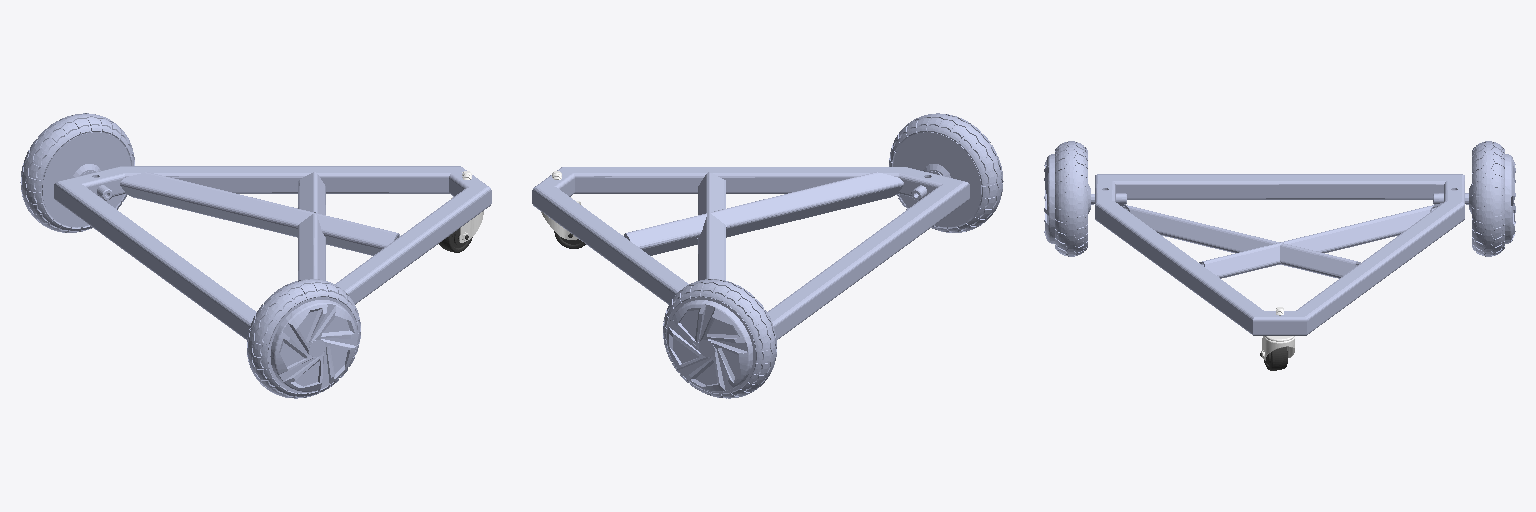
The robot description file, URDF, robot "dfdv_robot":
<?xml version="1.0" encoding="utf-8"?>
<!-- This URDF was automatically created by SolidWorks to URDF Exporter! Originally created by [author] ([email redacted]) 
     Commit Version: 1.6.0-4-g7f85cfe  Build Version: 1.6.7995.38578
     For more information, please see http://wiki.ros.org/sw_urdf_exporter -->
<robot
  name="dfdv_robot">
  <link
    name="base_link">
    <inertial>
      <origin
        xyz="-0.0473739694704758 -1.04609804765262E-07 -1.74506948306084E-06"
        rpy="0 0 0" />
      <mass
        value="0.624706350643648" />
      <inertia
        ixx="0.00511447442892371"
        ixy="0.00040821037597946"
        ixz="-4.56703849568947E-07"
        iyy="0.00343367420031374"
        iyz="-4.21131238551985E-07"
        izz="0.00839627365509467" />
    </inertial>
    <visual>
      <origin
        xyz="0 0 0"
        rpy="0 0 0" />
      <geometry>
        <mesh
          filename="package://dfdv_robot/meshes/base_link.STL" />
      </geometry>
      <material
        name="">
        <color
          rgba="0.792156862745098 0.819607843137255 0.933333333333333 1" />
      </material>
    </visual>
    <collision>
      <origin
        xyz="0 0 0"
        rpy="0 0 0" />
      <geometry>
        <mesh
          filename="package://dfdv_robot/meshes/base_link.STL" />
      </geometry>
    </collision>
  </link>
  <link
    name="l_wheel">
    <inertial>
      <origin
        xyz="-7.1785E-08 -0.0001059 0.0021198"
        rpy="0 0 0" />
      <mass
        value="2.5" />
      <inertia
        ixx="0.0022694"
        ixy="1.0307E-09"
        ixz="2.3276E-09"
        iyy="0.0022695"
        iyz="-6.9288E-06"
        izz="0.0039163" />
    </inertial>
    <visual>
      <origin
        xyz="0 0 0"
        rpy="0 0 0" />
      <geometry>
        <mesh
          filename="package://dfdv_robot/meshes/l_wheel.STL" />
      </geometry>
      <material
        name="">
        <color
          rgba="0.79216 0.81961 0.93333 1" />
      </material>
    </visual>
    <collision>
      <origin
        xyz="0 0 0"
        rpy="0 0 0" />
      <geometry>
        <mesh
          filename="package://dfdv_robot/meshes/l_wheel.STL" />
      </geometry>
    </collision>
  </link>
  <joint
    name="lf_joint"
    type="continuous">
    <origin
      xyz="-0.18435 -0.29904 -9.1429E-05"
      rpy="-1.5748 -0.10479 3.1416" />
    <parent
      link="base_link" />
    <child
      link="l_wheel" />
    <axis
      xyz="0 0.0039637 -0.99999" />
  </joint>
  <link
    name="r_wheel">
    <inertial>
      <origin
        xyz="7.1807E-08 0.0001059 0.0021198"
        rpy="0 0 0" />
      <mass
        value="2.5" />
      <inertia
        ixx="0.0022694"
        ixy="8.7606E-10"
        ixz="-2.3205E-09"
        iyy="0.0022695"
        iyz="6.9289E-06"
        izz="0.0039163" />
    </inertial>
    <visual>
      <origin
        xyz="0 0 0"
        rpy="0 0 0" />
      <geometry>
        <mesh
          filename="package://dfdv_robot/meshes/r_wheel.STL" />
      </geometry>
      <material
        name="">
        <color
          rgba="0.79216 0.81961 0.93333 1" />
      </material>
    </visual>
    <collision>
      <origin
        xyz="0 0 0"
        rpy="0 0 0" />
      <geometry>
        <mesh
          filename="package://dfdv_robot/meshes/r_wheel.STL" />
      </geometry>
    </collision>
  </link>
  <joint
    name="r_joint"
    type="continuous">
    <origin
      xyz="-0.18436 0.29904 -8.9705E-05"
      rpy="1.5748 -0.22065 3.1416" />
    <parent
      link="base_link" />
    <child
      link="r_wheel" />
    <axis
      xyz="0 0.0039637 0.99999" />
  </joint>
  <link
    name="caster">
    <inertial>
      <origin
        xyz="0 0 0"
        rpy="0 0 0" />
      <mass
        value="0.2" />
      <inertia
        ixx="0"
        ixy="0"
        ixz="0"
        iyy="0"
        iyz="0"
        izz="0" />
    </inertial>
    <visual>
      <origin
        xyz="0 0 0"
        rpy="0 0 0" />
      <geometry>
        <mesh
          filename="package://dfdv_robot/meshes/caster.STL" />
      </geometry>
      <material
        name="">
        <color
          rgba="1 1 1 1" />
      </material>
    </visual>
    <collision>
      <origin
        xyz="0 0 0"
        rpy="0 0 0" />
      <geometry>
        <mesh
          filename="package://dfdv_robot/meshes/caster.STL" />
      </geometry>
    </collision>
  </link>
  <joint
    name="caster_joint"
    type="continuous">
    <origin
      xyz="0.23671 0 0"
      rpy="0 0 0" />
    <parent
      link="base_link" />
    <child
      link="caster" />
    <axis
      xyz="0 0 1" />
  </joint>
  <link
    name="wc">
    <inertial>
      <origin
        xyz="0 -6.9389E-18 0"
        rpy="0 0 0" />
      <mass
        value="0.2" />
      <inertia
        ixx="9.5074E-06"
        ixy="3.1926E-24"
        ixz="5.7175E-21"
        iyy="9.5074E-06"
        iyz="-5.5214E-23"
        izz="1.4188E-05" />
    </inertial>
    <visual>
      <origin
        xyz="0 0 0"
        rpy="0 0 0" />
      <geometry>
        <mesh
          filename="package://dfdv_robot/meshes/wc.STL" />
      </geometry>
      <material
        name="">
        <color
          rgba="0.29412 0.29412 0.29412 1" />
      </material>
    </visual>
    <collision>
      <origin
        xyz="0 0 0"
        rpy="0 0 0" />
      <geometry>
        <mesh
          filename="package://dfdv_robot/meshes/wc.STL" />
      </geometry>
    </collision>
  </link>
  <joint
    name="wc_joint"
    type="continuous">
    <origin
      xyz="-0.021933 -0.0069236 -0.056768"
      rpy="1.5708 0 -2.8358" />
    <parent
      link="caster" />
    <child
      link="wc" />
    <axis
      xyz="0 0 1" />
  </joint>
</robot>

--- Facts derived from the render (not from the file) ---
3 views of the same robot in one strip: view 1: azimuth 30°, elevation 25°; view 2: azimuth 150°, elevation 25°; view 3: azimuth 270°, elevation 25° (orthographic).
Model dfdv_robot with 5 links and 4 joints (4 continuous), rooted at base_link, posed every joint at zero.
Visible links, largest first — view 1: base_link, l_wheel, r_wheel; view 2: base_link, r_wheel, l_wheel; view 3: base_link, r_wheel, l_wheel, caster.
Boxes of the visible links, bbox=[...] form: base_link: bbox=[54, 166, 491, 339]; l_wheel: bbox=[247, 279, 360, 398]; r_wheel: bbox=[20, 113, 134, 232]; base_link: bbox=[532, 167, 969, 339]; r_wheel: bbox=[663, 279, 776, 398]; l_wheel: bbox=[889, 113, 1003, 232]; base_link: bbox=[1095, 174, 1464, 335]; r_wheel: bbox=[1433, 141, 1515, 256]; l_wheel: bbox=[1044, 141, 1126, 256]; caster: bbox=[1261, 307, 1294, 360].
Size in the robot's own frame: 0.5256 by 0.674 by 0.1651 metres.
5 mesh visuals loaded from 5 distinct referenced files (5 binary STL).